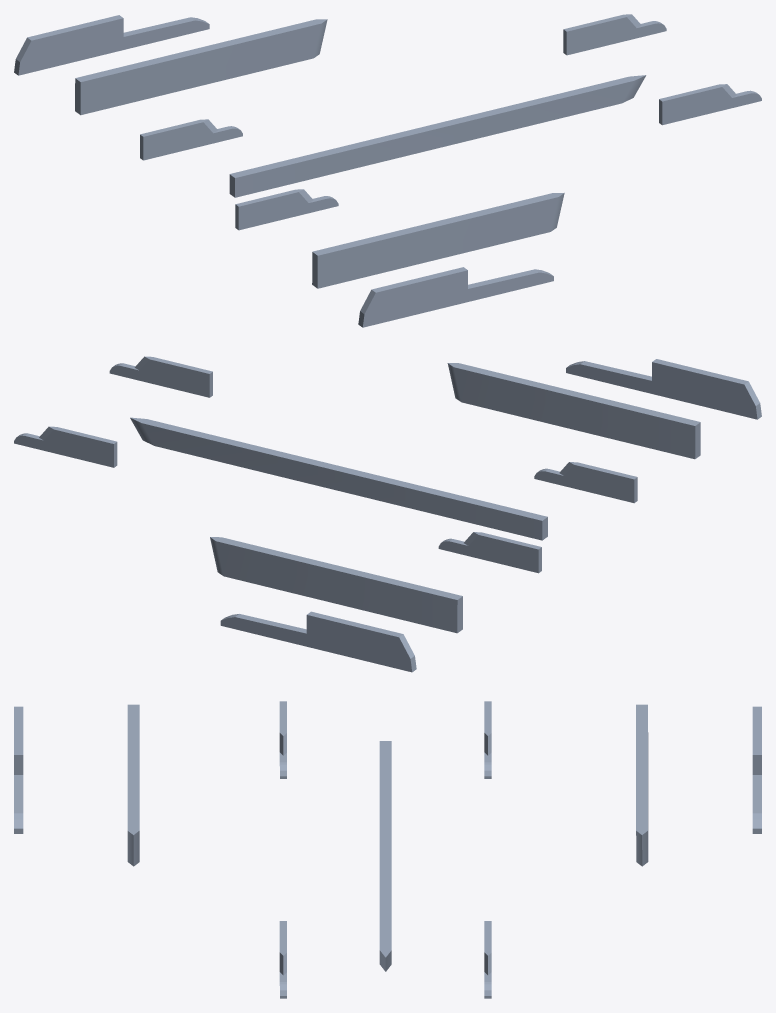
3 views of the same model, one above another, from view 1: azimuth 30°, elevation 25°; view 2: azimuth 150°, elevation 25°; view 3: azimuth 270°, elevation 25° (orthographic). The views are drawn at different scales.
Parts seen in each view (by area): view 1: Cube.019; view 2: Cube.019; view 3: Cube.019.
Boxes of the visible parts, x1=… form: Cube.019: x1=14, y1=14, x2=761, y2=327; Cube.019: x1=14, y1=356, x2=761, y2=672; Cube.019: x1=14, y1=701, x2=761, y2=998.
Bounding box in the file's own units: 5.53 × 0.3797 × 6.39.
